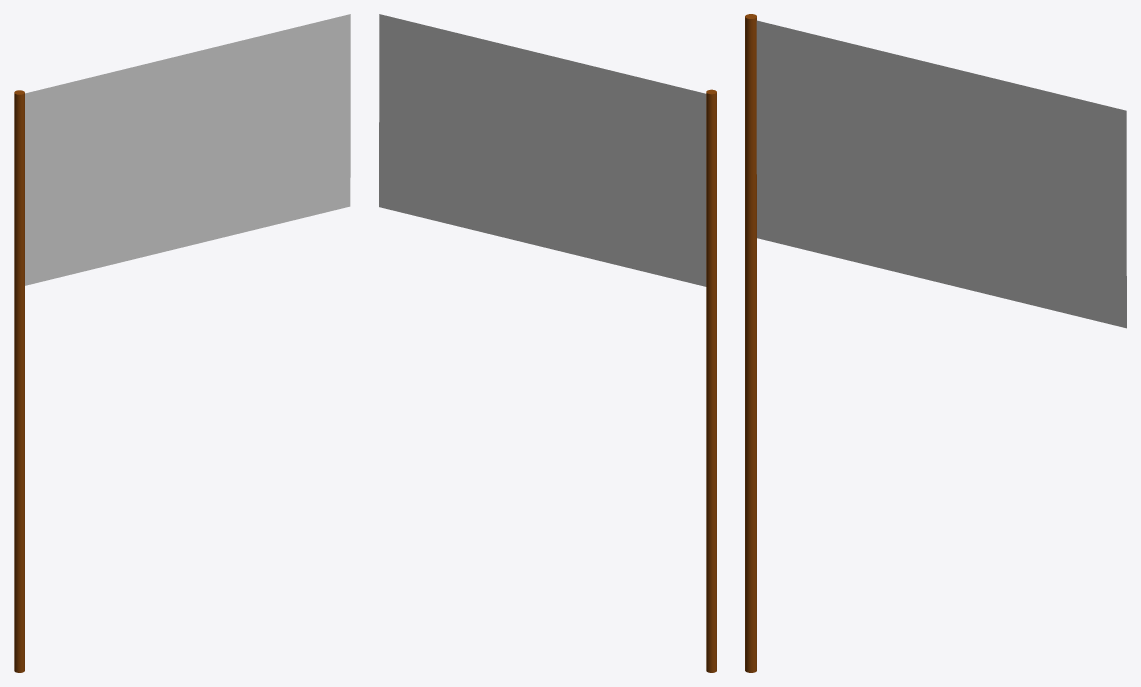
Rendered from uploads_files_4615359_untitled.6+blend.glb.
3 renders of one model, left to right at view 1: azimuth 30°, elevation 25°; view 2: azimuth 150°, elevation 25°; view 3: azimuth 330°, elevation 25°, orthographic. The views are drawn at different scales.
Parts seen in each view (by area): view 1: Plane, Cylinder; view 2: Plane, Cylinder; view 3: Plane, Cylinder.
Boxes of the visible parts, left/top/right/bottom form: Plane: left=25, top=14, right=350, bottom=285; Cylinder: left=14, top=90, right=24, bottom=672; Plane: left=379, top=14, right=706, bottom=286; Cylinder: left=706, top=89, right=716, bottom=672; Plane: left=756, top=20, right=1126, bottom=328; Cylinder: left=745, top=14, right=756, bottom=672.
Size of the model in its own units: 3.65 by 6 by 0.1.
